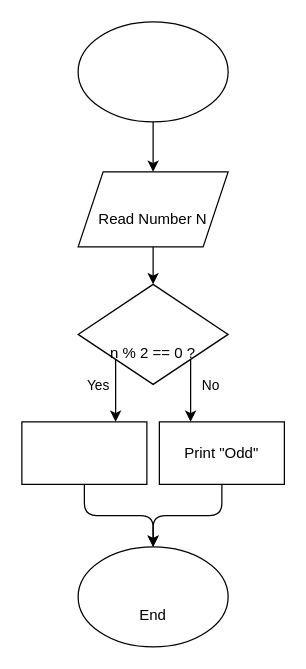
Image size: 306x669. Some labels were removed from this diagram. The box of each missing label's shape, as (x1, y1, x2, y2) in pixels:
Print "Even": (21, 421, 147, 484)
Start: (77, 21, 228, 122)
